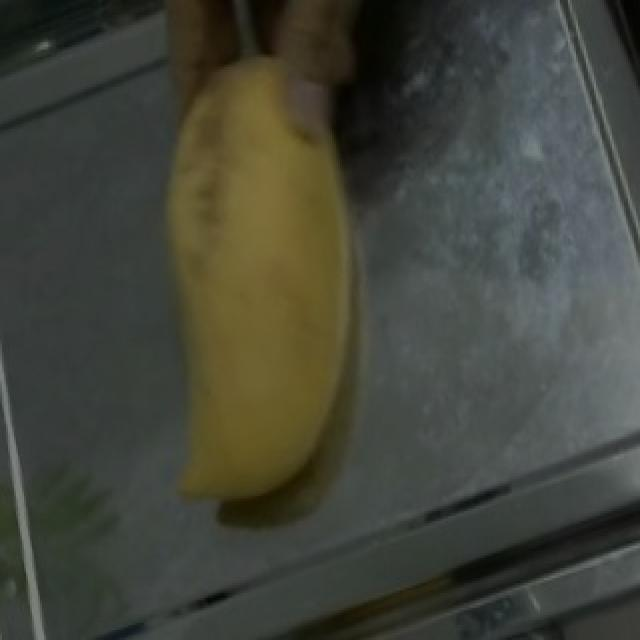fruit: (108, 10, 440, 402)
